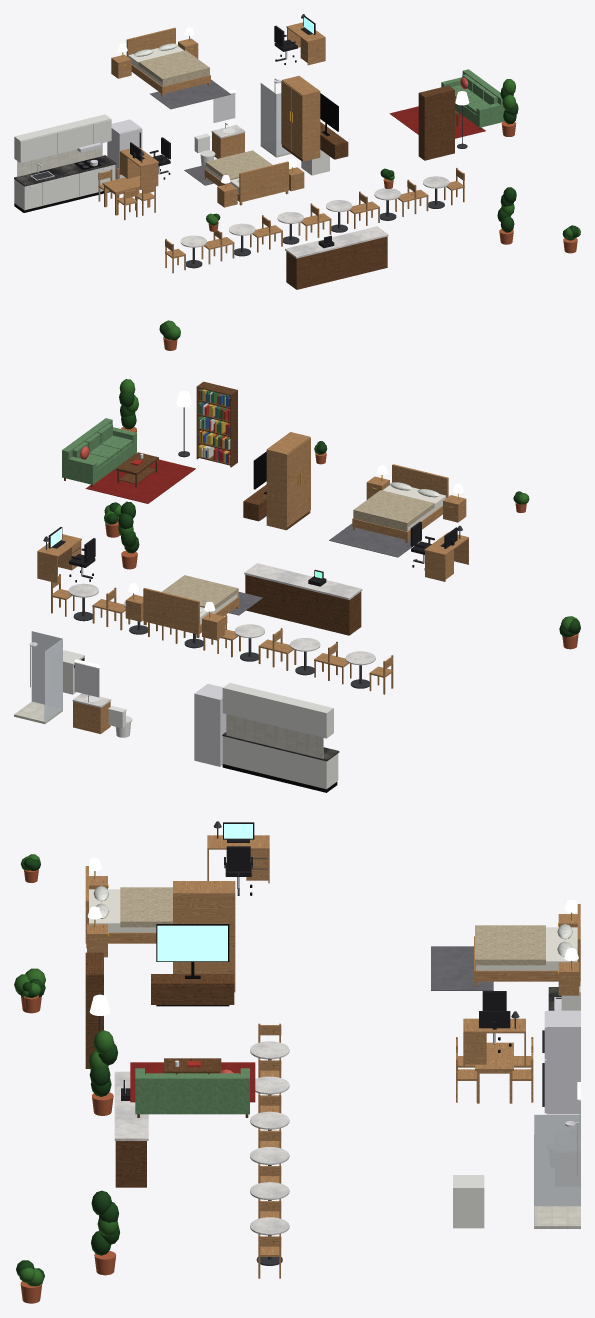
Rendered from i_spanish_plaza_house.gltf.
3 views of the same model, one above another, from view 1: azimuth 30°, elevation 25°; view 2: azimuth 150°, elevation 25°; view 3: azimuth 270°, elevation 25° (orthographic). The views are drawn at different scales.
Parts seen in each view (by area): view 1: I_spanish_plaza_house; view 2: I_spanish_plaza_house; view 3: I_spanish_plaza_house.
Boxes of the visible parts, x1,y1,x2,y2 form: I_spanish_plaza_house: (14, 14, 580, 350); I_spanish_plaza_house: (14, 379, 580, 792); I_spanish_plaza_house: (14, 821, 580, 1303).
Size of the model in its own units: 13.77 by 5.5 by 10.89.
Materials: 34 (12 with a texture image).
